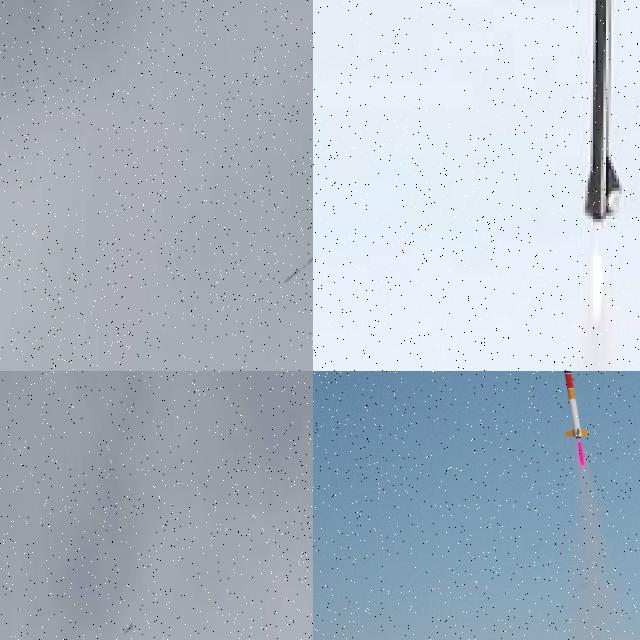Rocket: (579, 0, 627, 233), (563, 371, 589, 439), (284, 252, 313, 283), (123, 621, 133, 635)
